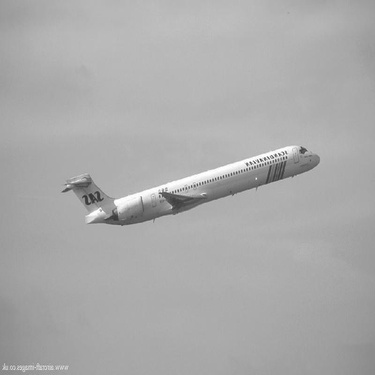airplane: (51, 142, 327, 234)
